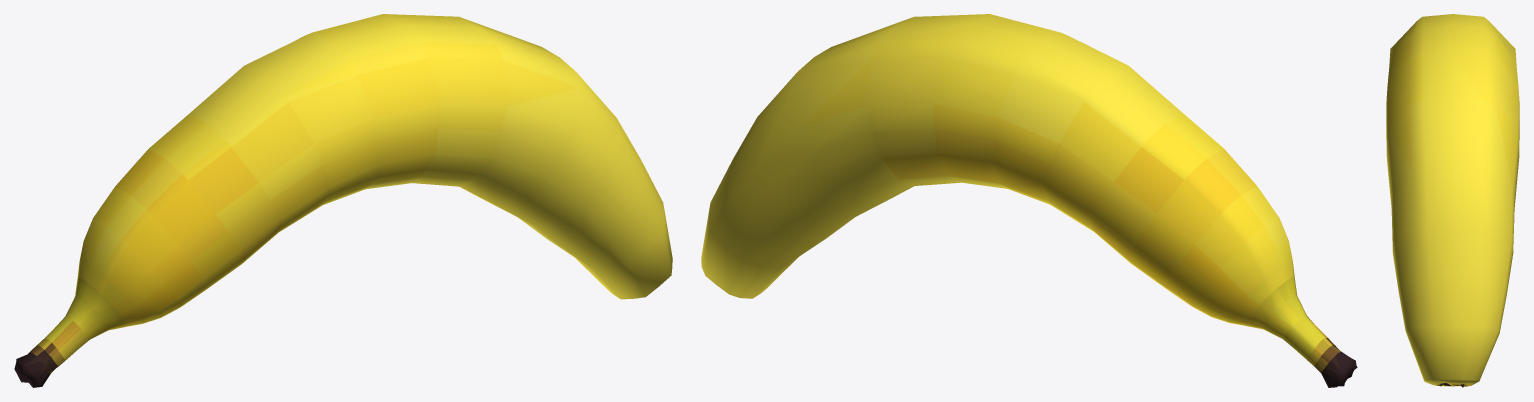
Rendered from banana.obj.
The picture shows the model from 3 angles, left to right: view 1: azimuth 30°, elevation 25°; view 2: azimuth 150°, elevation 25°; view 3: azimuth 270°, elevation 25°; orthographic projection. The views are drawn at different scales.
Visible parts, largest first — view 1: obj1; view 2: obj1; view 3: obj1.
Part boxes in pixels (bbox=[...]): obj1: bbox=[14, 14, 672, 387]; obj1: bbox=[701, 14, 1357, 387]; obj1: bbox=[1386, 14, 1519, 387].
Size of the model in its own units: 0.3037 by 0.1437 by 0.0697.
